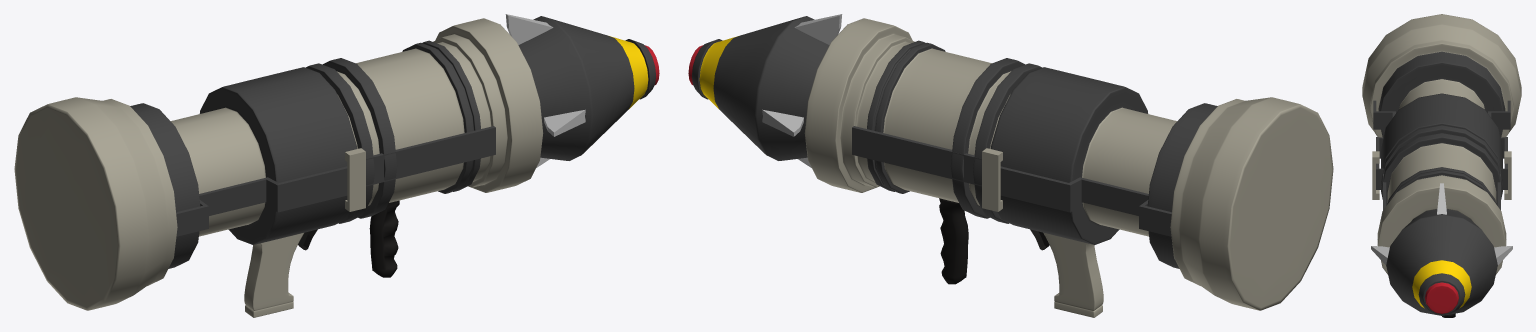
The model's file is Cyber_Bazooka.fbx.
The picture shows the model from 3 angles, left to right: view 1: azimuth 30°, elevation 25°; view 2: azimuth 150°, elevation 25°; view 3: azimuth 270°, elevation 25°; orthographic projection. The views are drawn at different scales.
Visible parts, largest first — view 1: Vert, Cylinder.001; view 2: Vert, Cylinder.001; view 3: Vert, Cylinder.001.
Part boxes in pixels (bbox=[...]): Vert: bbox=[14, 18, 543, 317]; Cylinder.001: bbox=[505, 14, 659, 167]; Vert: bbox=[804, 18, 1333, 317]; Cylinder.001: bbox=[688, 14, 842, 167]; Vert: bbox=[1362, 14, 1521, 317]; Cylinder.001: bbox=[1371, 183, 1512, 315].
Size of the model in its own units: 437 by 178 by 137.
